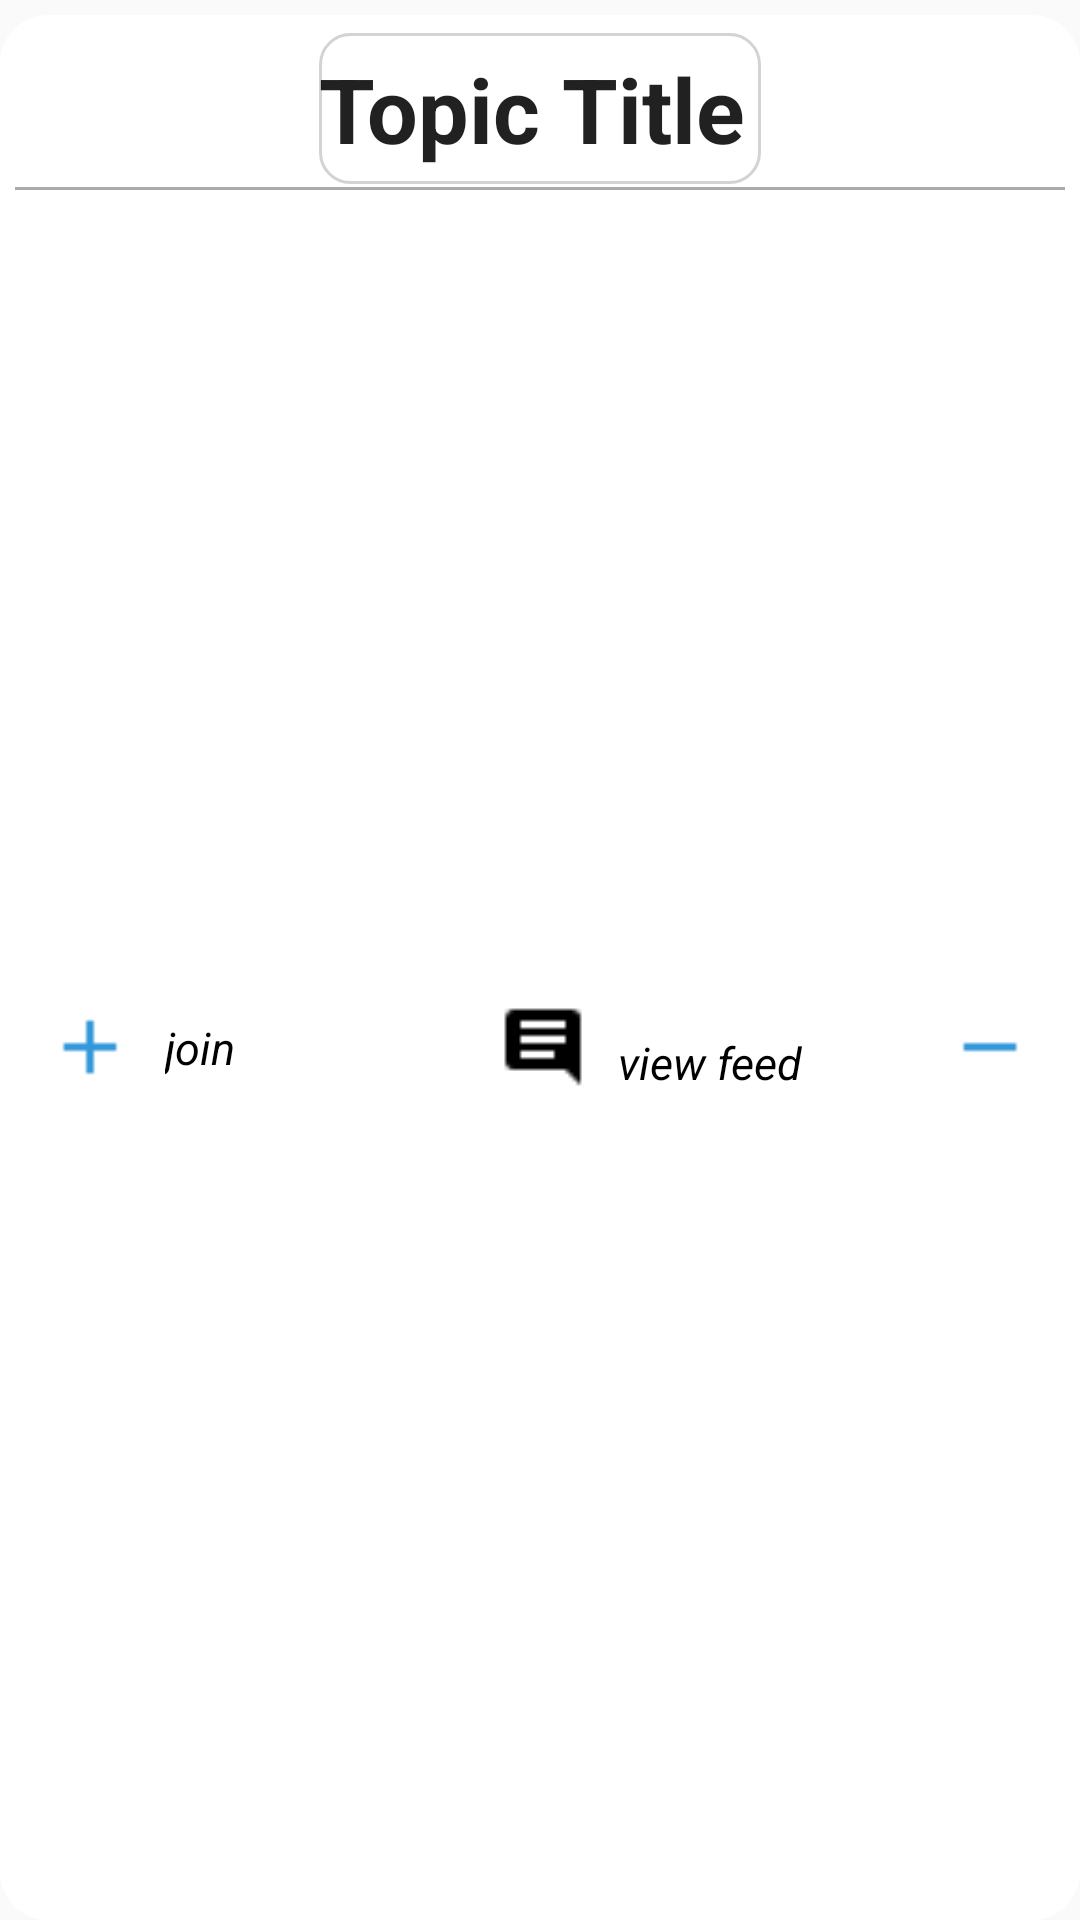

Point at icon controls on the screen. Image size 1080x1920, points as point (x, y).
comments: point (543, 1047)
leave: point (990, 1047)
